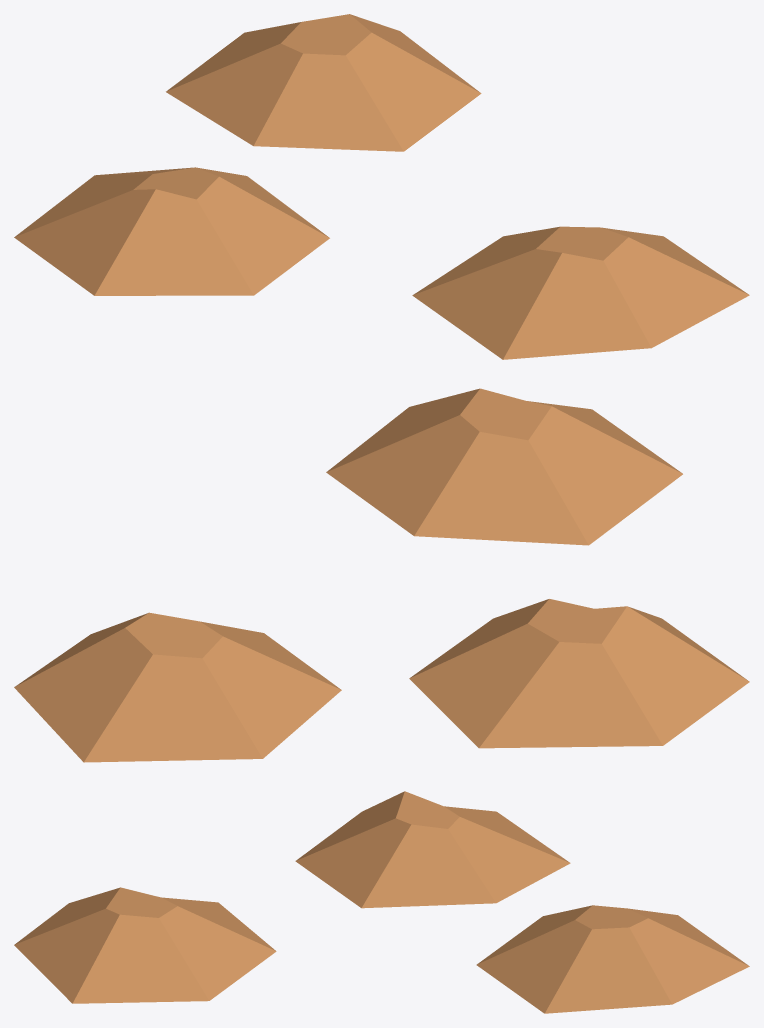
Rendered from Deer-3.fbx.
3 renders of one model, top to bottom at view 1: azimuth 30°, elevation 25°; view 2: azimuth 150°, elevation 25°; view 3: azimuth 270°, elevation 25°, orthographic. The views are drawn at different scales.
Parts seen in each view (by area): view 1: Deer-3; view 2: Deer-3; view 3: Deer-3.
Boxes of the visible parts, x1,y1,x2,y2 form: Deer-3: (14, 14, 749, 359); Deer-3: (14, 388, 749, 762); Deer-3: (14, 791, 749, 1013).
Size of the model in its own units: 46.79 by 6.23 by 71.34.
